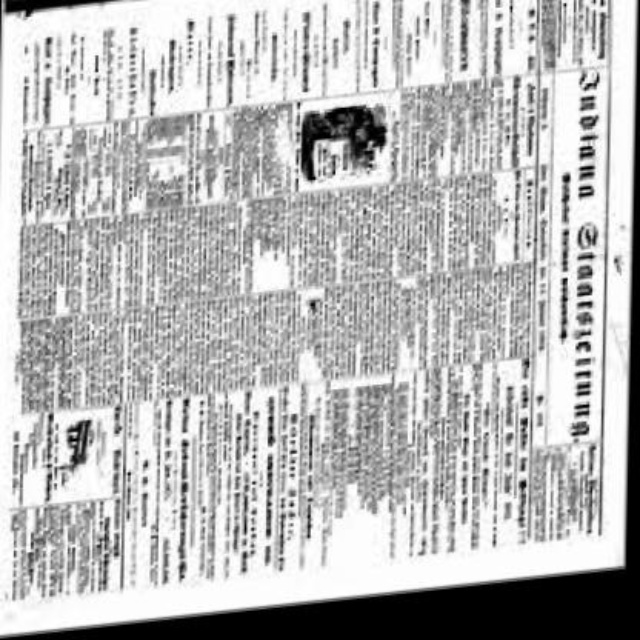trash: (0, 0, 635, 632)
